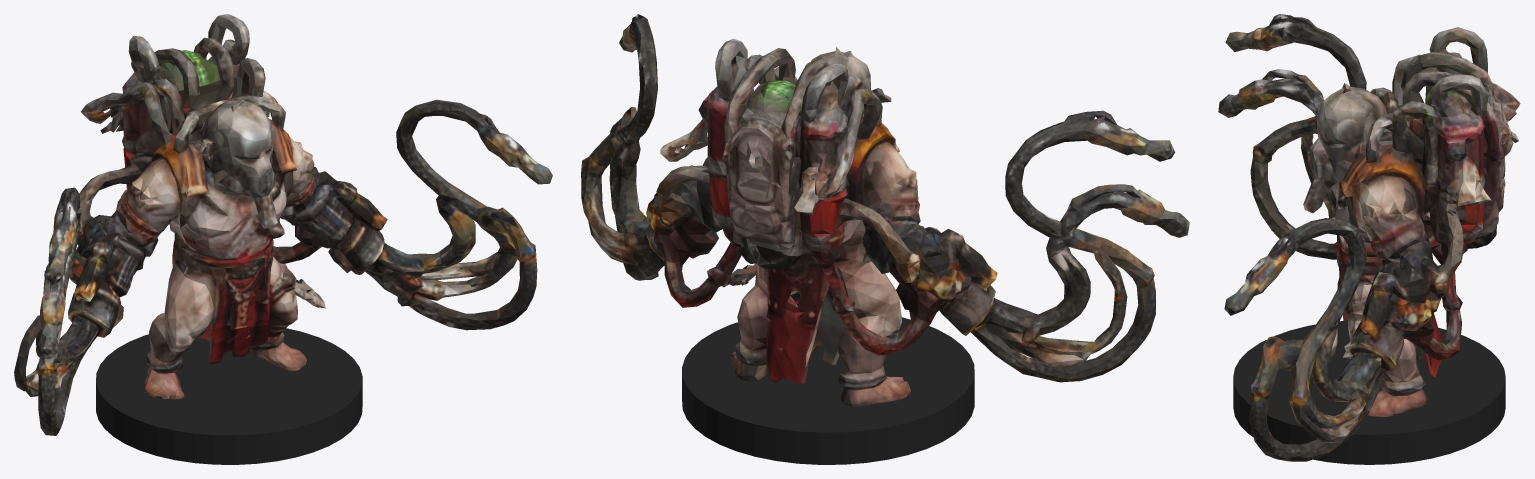
Rendered from arco-flagellant.glb.
The picture shows the model from 3 angles, left to right: view 1: azimuth 30°, elevation 25°; view 2: azimuth 150°, elevation 25°; view 3: azimuth 270°, elevation 25°; orthographic projection. The views are drawn at different scales.
Visible parts, largest first — view 1: figure, base; view 2: figure, base; view 3: figure, base.
Boxes of the visible parts, <box> form: figure: <box>14,14,552,435</box>; base: <box>96,328,362,464</box>; figure: <box>581,14,1189,406</box>; base: <box>682,317,974,464</box>; figure: <box>1218,14,1520,461</box>; base: <box>1233,321,1505,464</box>.
Size of the model in its own units: 2.2 by 1.42 by 1.09.
2 materials, 1 textured.
